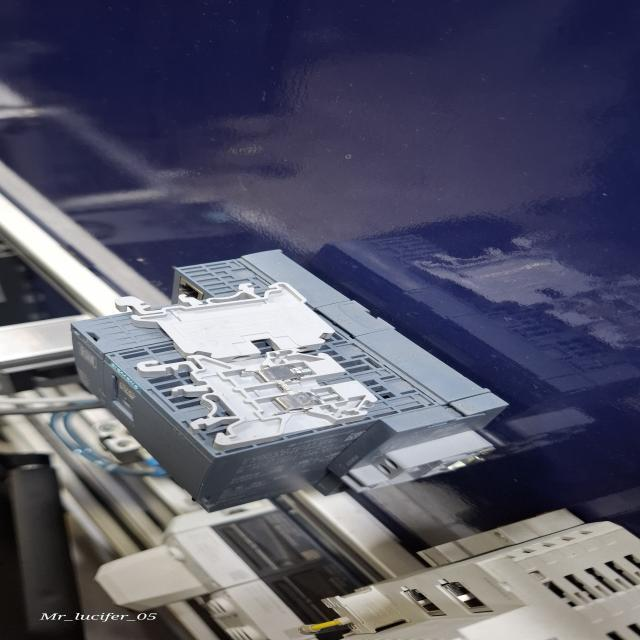Inverted: (106, 278, 348, 360)
Pass: (130, 342, 383, 454)
